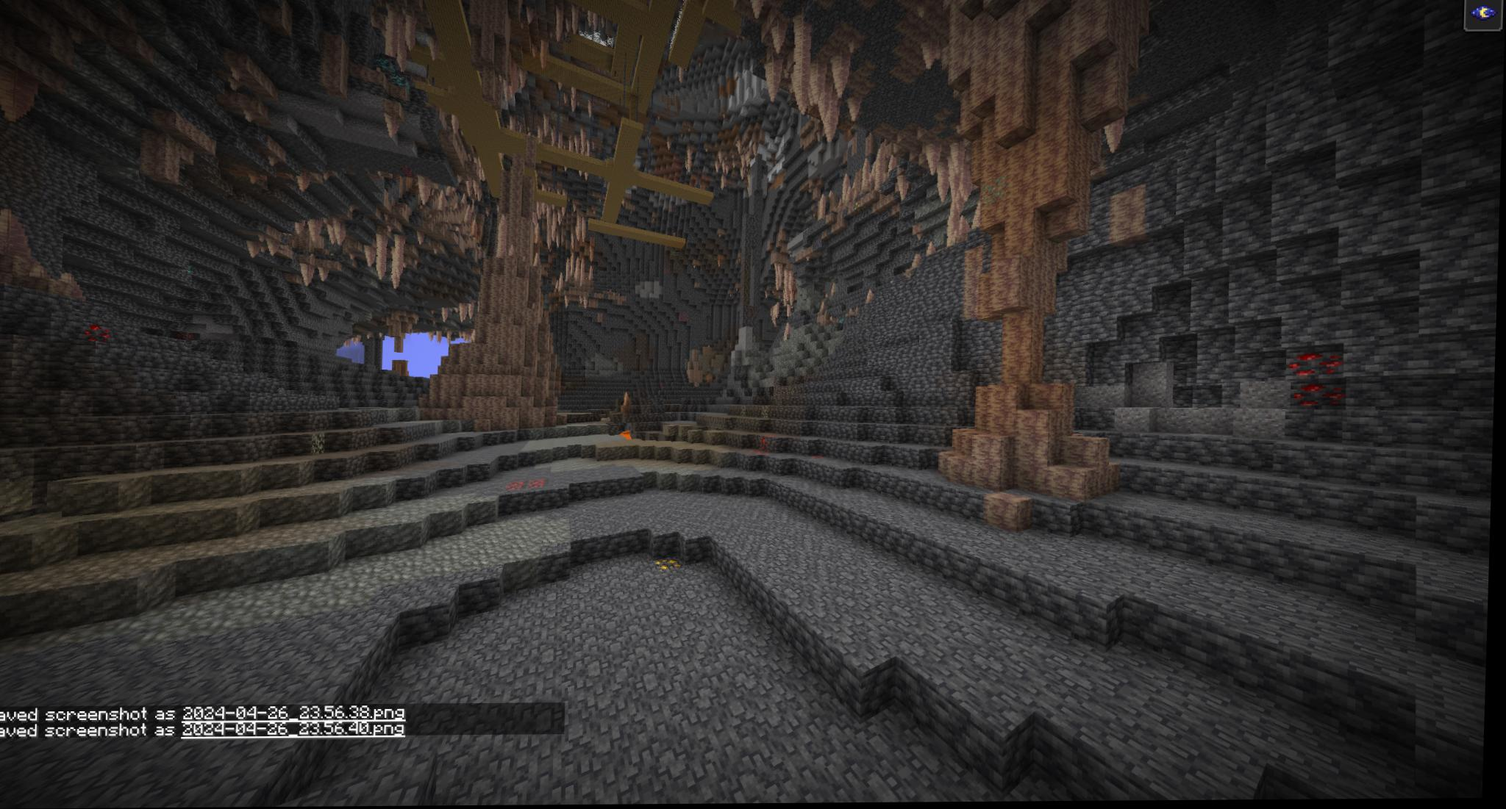gold ore: (640, 546, 690, 579)
redstone ore: (1290, 340, 1352, 423), (505, 474, 555, 500), (80, 319, 115, 349), (748, 433, 783, 460)
